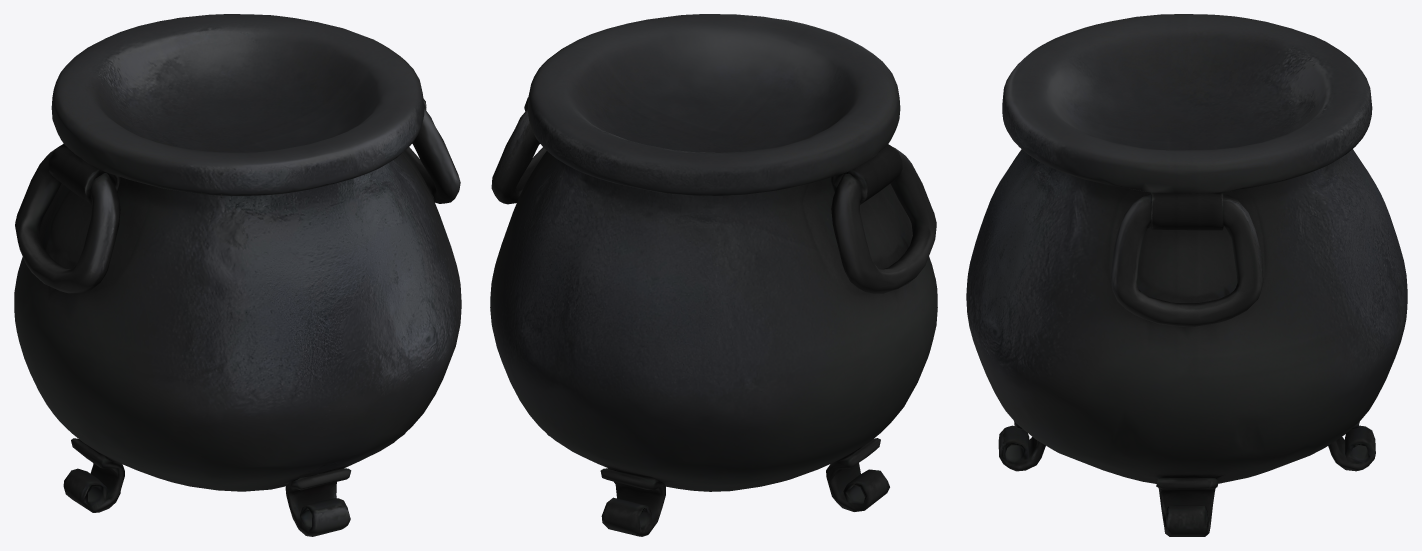
Rendered from caldeirao.glb.
3 views of the same model, side by side, from view 1: azimuth 30°, elevation 25°; view 2: azimuth 150°, elevation 25°; view 3: azimuth 270°, elevation 25° (orthographic).
Parts seen in each view (by area): view 1: tripo_node_3e916f13-d677-4123-811e-897a1fcf6276; view 2: tripo_node_3e916f13-d677-4123-811e-897a1fcf6276; view 3: tripo_node_3e916f13-d677-4123-811e-897a1fcf6276.
Boxes of the visible parts, bbox=[...] form: tripo_node_3e916f13-d677-4123-811e-897a1fcf6276: bbox=[14, 14, 461, 536]; tripo_node_3e916f13-d677-4123-811e-897a1fcf6276: bbox=[490, 14, 937, 536]; tripo_node_3e916f13-d677-4123-811e-897a1fcf6276: bbox=[966, 14, 1407, 536].
Size of the model in its own units: 0.9804 by 0.8987 by 0.9531.
Materials: 1 (1 with a texture image).
